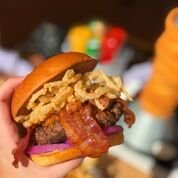soup: (9, 52, 136, 170)
